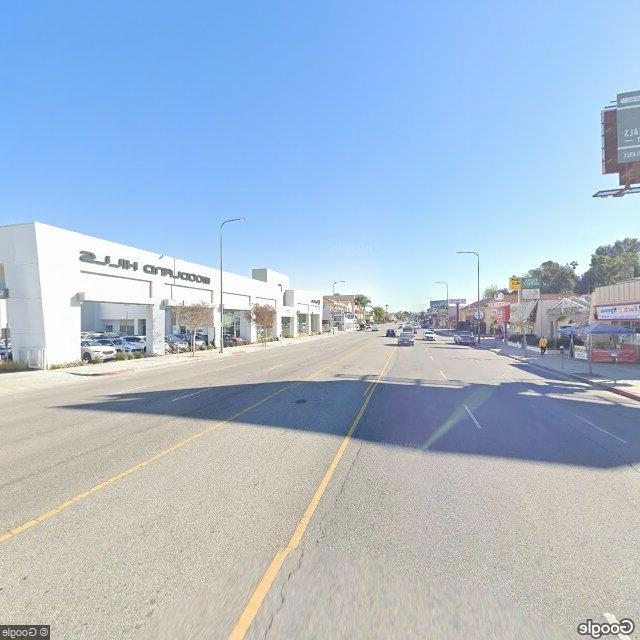pothole: (272, 439, 366, 633)
